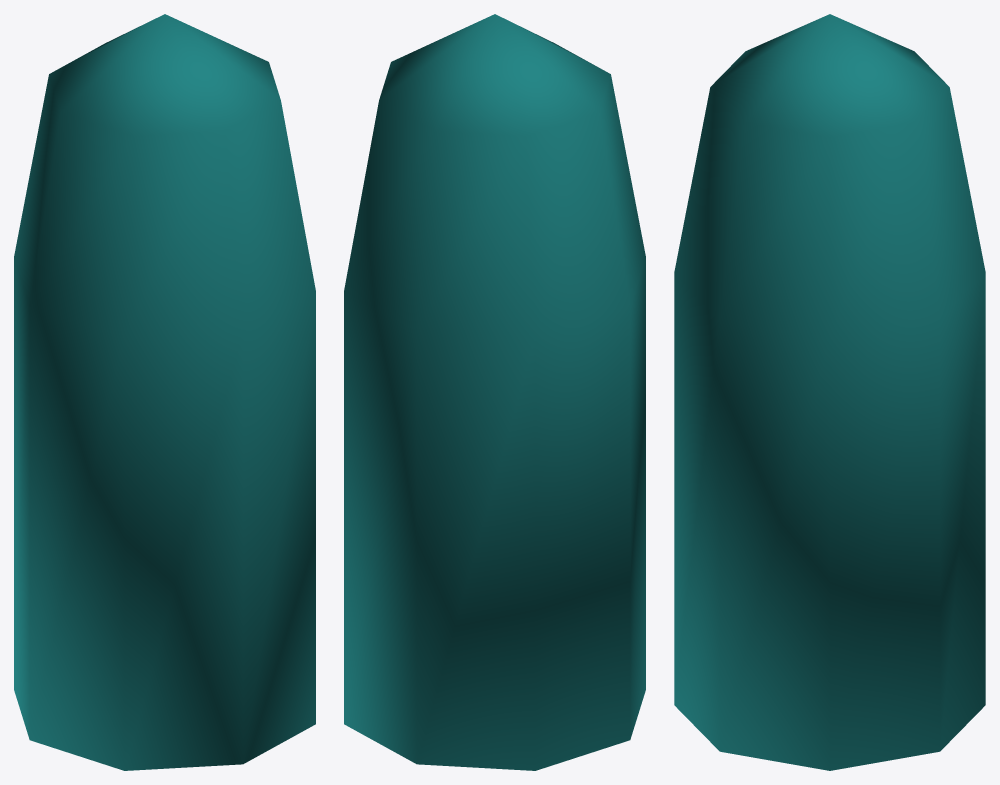
File: fitness_bottle_collider.fbx
The picture shows the model from 3 angles, left to right: view 1: azimuth 30°, elevation 25°; view 2: azimuth 150°, elevation 25°; view 3: azimuth 270°, elevation 25°; orthographic projection.
Visible parts, largest first — view 1: fitness_bottle_collider; view 2: fitness_bottle_collider; view 3: fitness_bottle_collider.
Boxes of the visible parts, box(x1,y1,x2,y2) form: fitness_bottle_collider: box(14, 14, 315, 770); fitness_bottle_collider: box(344, 14, 645, 770); fitness_bottle_collider: box(674, 14, 985, 770).
Bounding box in the file's own units: 8.07 × 19.76 × 8.07.
